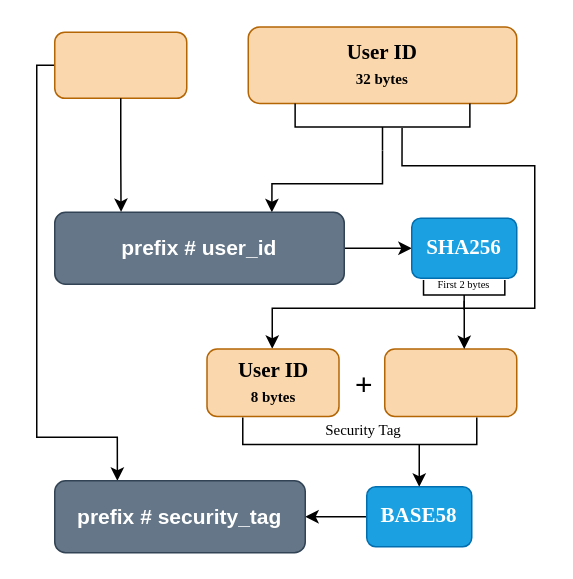
Some shapes in this 573 by 579 pixel diagram are drawn without their labels. Each missing label, with the centre of its shape:
Checksum 2 bytes: point 450,382
First 8 bytes: point 382,126
Prefix: point 120,64
